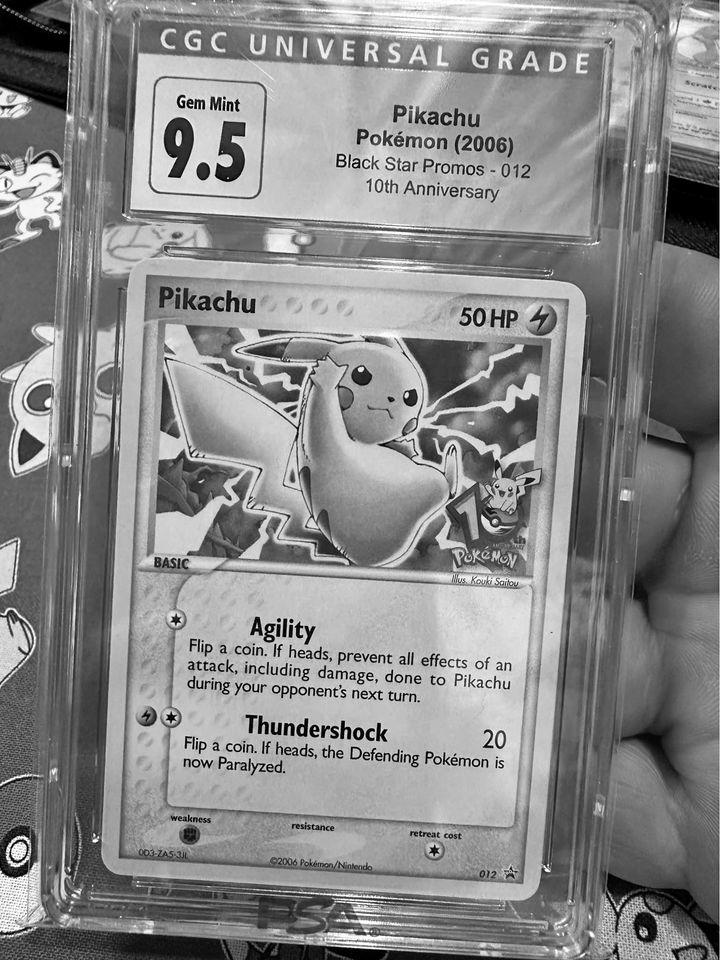card: (98, 254, 591, 905)
